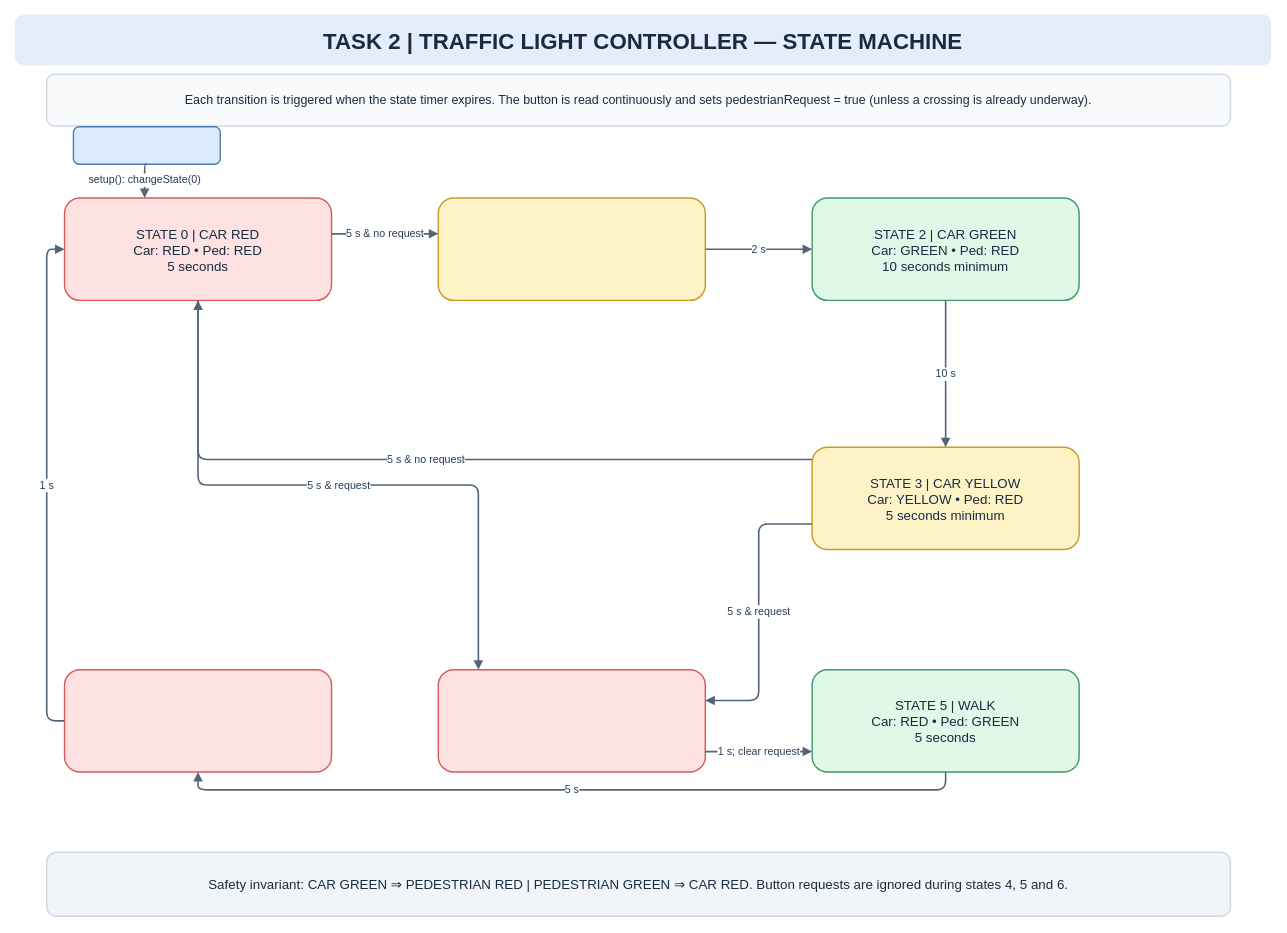
This 1287x933 diagram has some shape labels left out. The box of each missing label's shape, as (x1, y1, x2, y2) in pixels:
START: (72, 126, 221, 164)
STATE 1 | RED + YELLOW Car: RED & YELLOW • Ped: RED 2 seconds: (437, 197, 706, 301)
STATE 4 | ALL RED (BEFORE) Car: RED • Ped: RED 1-second safety interval: (437, 669, 706, 772)
STATE 6 | ALL RED (AFTER) Car: RED • Ped: RED 1-second safety interval: (63, 669, 332, 772)
